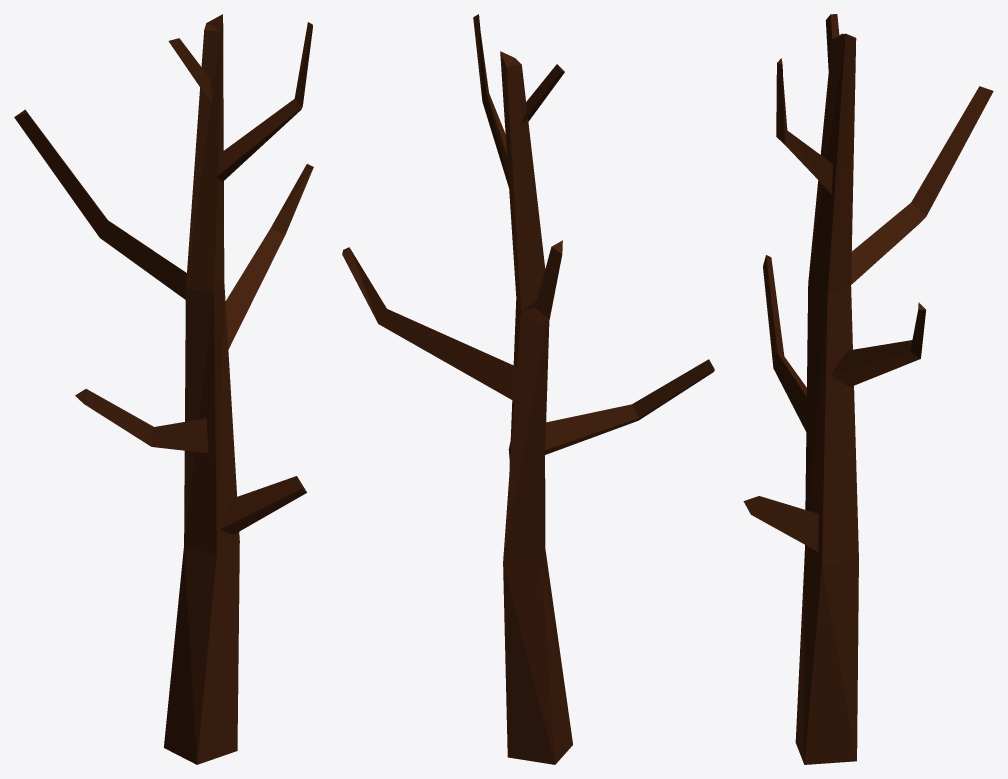
File: Tree3_M1_dead1.fbx
3 renders of one model, left to right at view 1: azimuth 30°, elevation 25°; view 2: azimuth 150°, elevation 25°; view 3: azimuth 270°, elevation 25°, orthographic. The views are drawn at different scales.
Visible parts, largest first — view 1: Tree3_M1_dead1; view 2: Tree3_M1_dead1; view 3: Tree3_M1_dead1.
Part boxes in pixels (x1=…): Tree3_M1_dead1: x1=14, y1=14, x2=313, y2=764; Tree3_M1_dead1: x1=342, y1=14, x2=714, y2=764; Tree3_M1_dead1: x1=743, y1=14, x2=993, y2=764.
Size of the model in its own units: 271 by 601 by 185.
